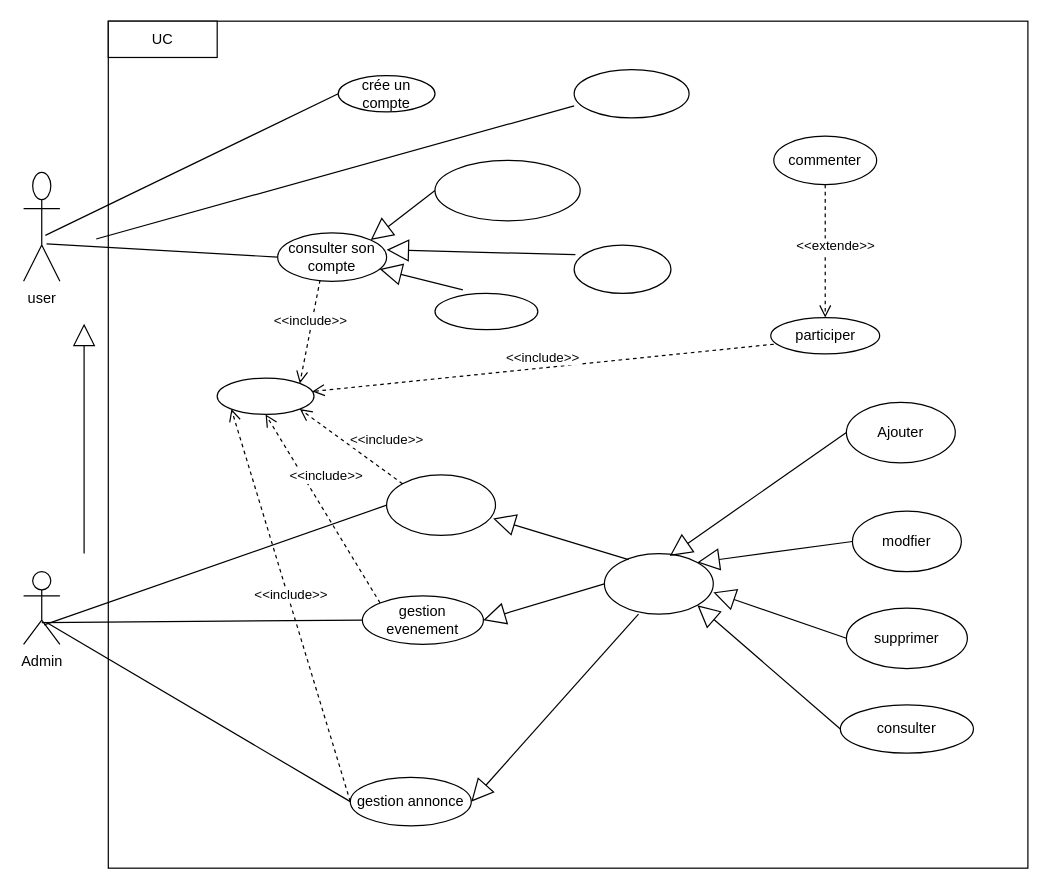
Some shapes in this 1049 by 889 pixel diagram are drawn without their labels. The centre of each missing label's shape, as x and y in pixels:
"abstract gestion" goes at point (658, 583).
"consultation historiques d'évènement" goes at point (507, 190).
"consulter annonce" goes at point (631, 93).
"gestion utilisateur" goes at point (440, 504).
"modifier compte" goes at point (486, 311).
"s'authentifier" goes at point (265, 395).
"supprimer compte" goes at point (622, 268).
